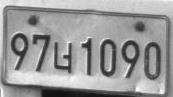0: (142, 41, 162, 80), (98, 37, 117, 78)
1: (77, 37, 96, 76)
7: (31, 33, 51, 72)
9: (120, 38, 140, 79), (10, 31, 29, 71)
너: (53, 41, 72, 72)
